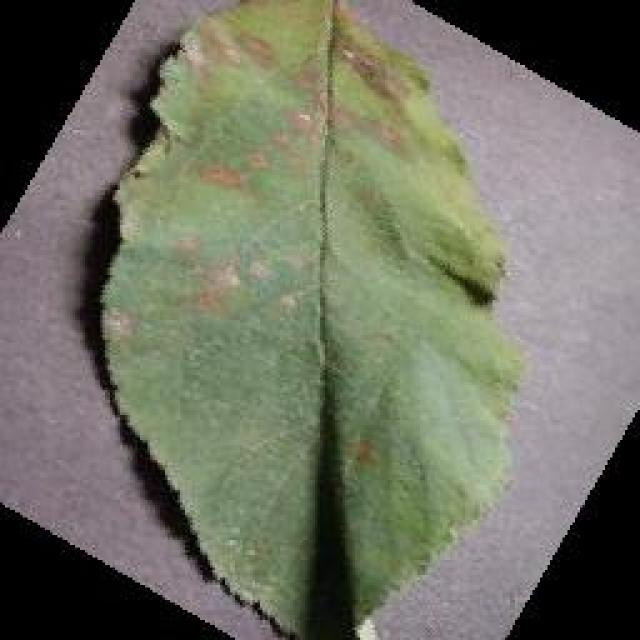apple cedar apple rust: (87, 0, 525, 638)
